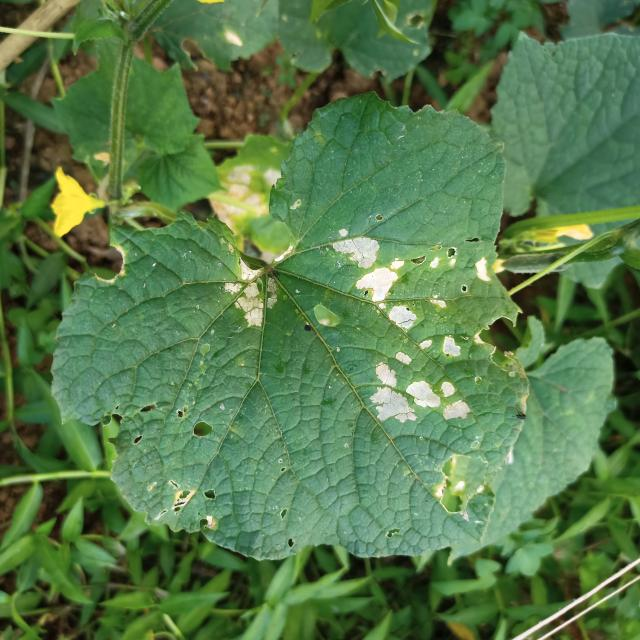disease_cucumber: (322, 220, 498, 330), (354, 332, 478, 436), (212, 255, 294, 328)
